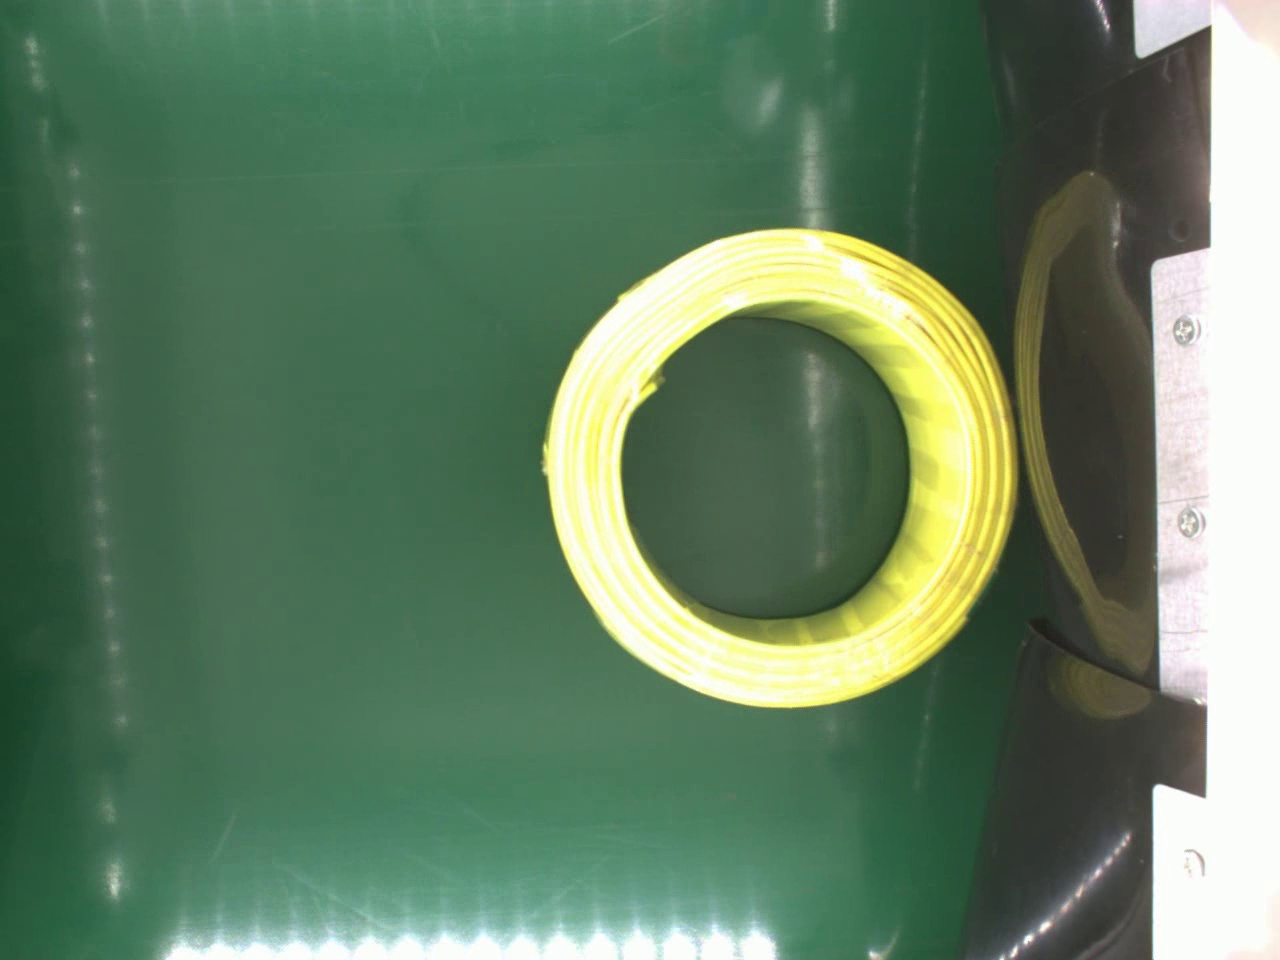yellow: (536, 219, 1017, 713)
